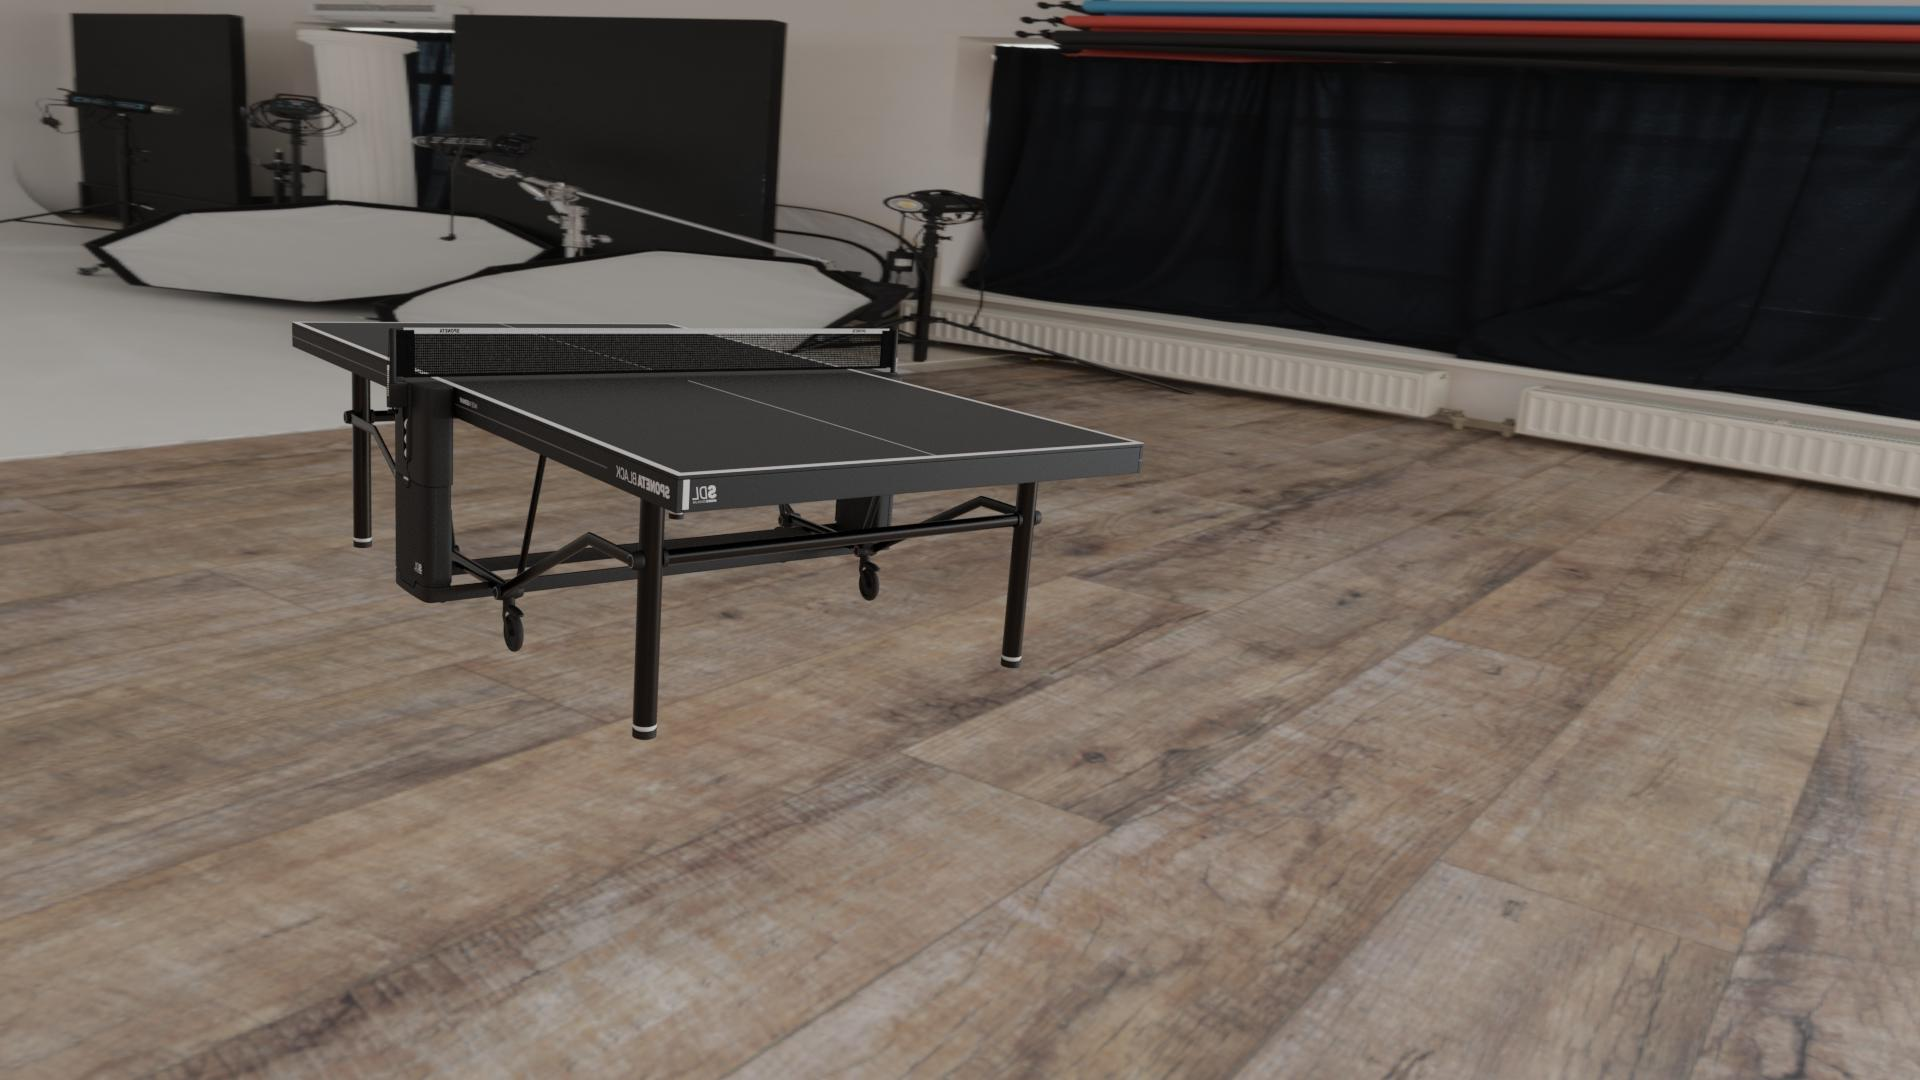table: (299, 323, 1134, 473)
